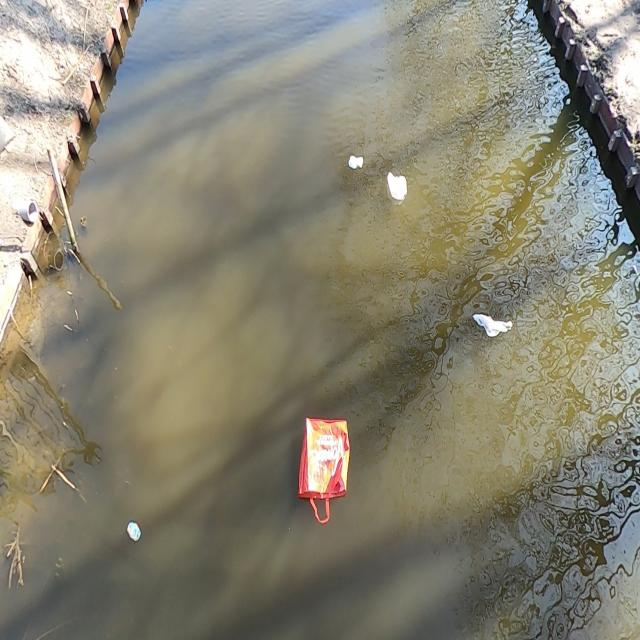Non plastique: (123, 521, 144, 550)
Sac plastique: (297, 406, 354, 527)
